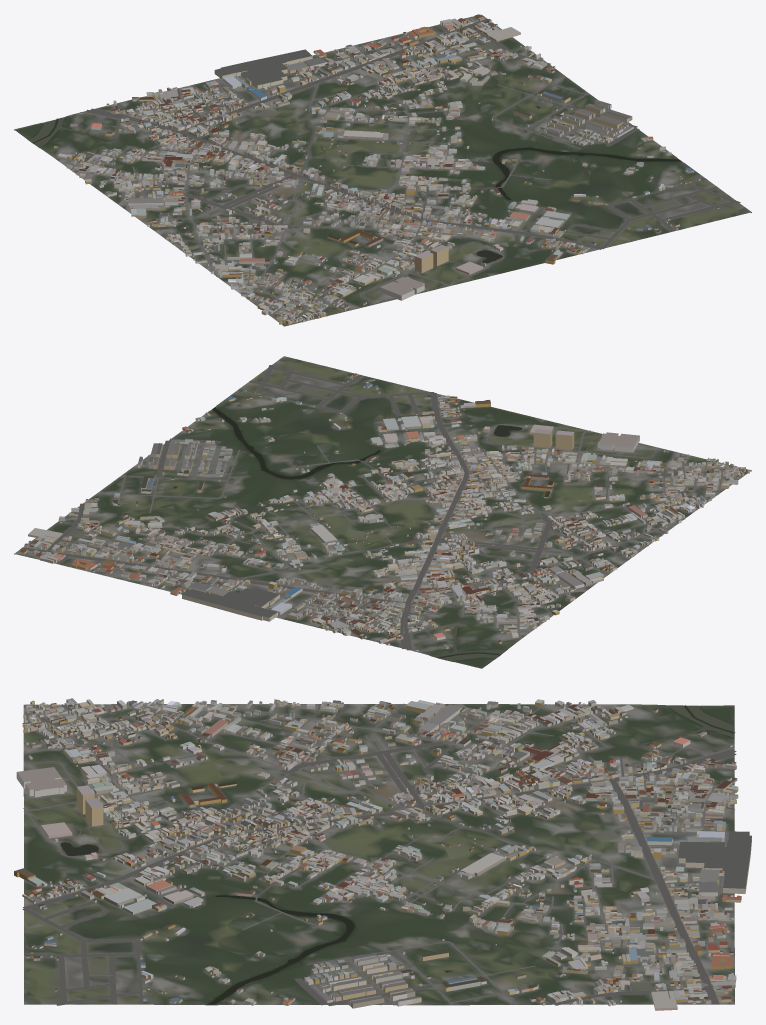
The picture shows the model from 3 angles, top to bottom: view 1: azimuth 30°, elevation 25°; view 2: azimuth 150°, elevation 25°; view 3: azimuth 270°, elevation 25°; orthographic projection. The views are drawn at different scales.
Parts seen in each view (by area): view 1: ground, buildings, roads, water; view 2: ground, buildings, roads, water; view 3: ground, buildings, roads, water.
Boxes of the visible parts, x1=… form: ground: x1=14, y1=14, x2=751, y2=326; buildings: x1=54, y1=14, x2=719, y2=324; roads: x1=55, y1=18, x2=740, y2=326; water: x1=28, y1=106, x2=681, y2=263; ground: x1=14, y1=356, x2=751, y2=668; buildings: x1=19, y1=368, x2=749, y2=651; roads: x1=20, y1=365, x2=751, y2=651; water: x1=173, y1=407, x2=522, y2=660; ground: x1=23, y1=704, x2=734, y2=1005; buildings: x1=14, y1=698, x2=751, y2=1010; roads: x1=22, y1=703, x2=736, y2=1005; water: x1=60, y1=705, x2=735, y2=1004.
Size of the model in its own units: 1439 by 47.21 by 1454.
